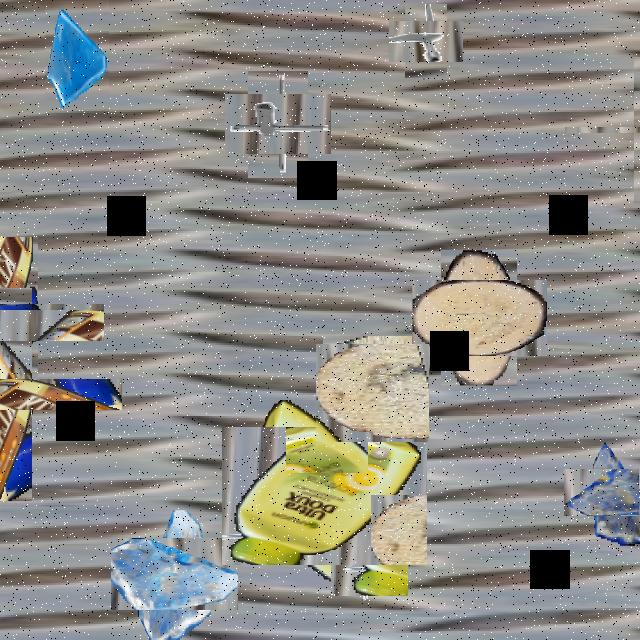glass: (124, 524, 224, 624), (45, 1, 109, 116), (578, 454, 640, 530), (599, 92, 640, 168), (611, 283, 640, 338)
metal: (236, 83, 320, 166), (246, 462, 310, 526), (338, 544, 399, 604), (397, 12, 455, 70)
plastic: (238, 410, 410, 582), (0, 333, 77, 455), (0, 269, 71, 374)
wood: (426, 265, 532, 371), (319, 340, 425, 446)
